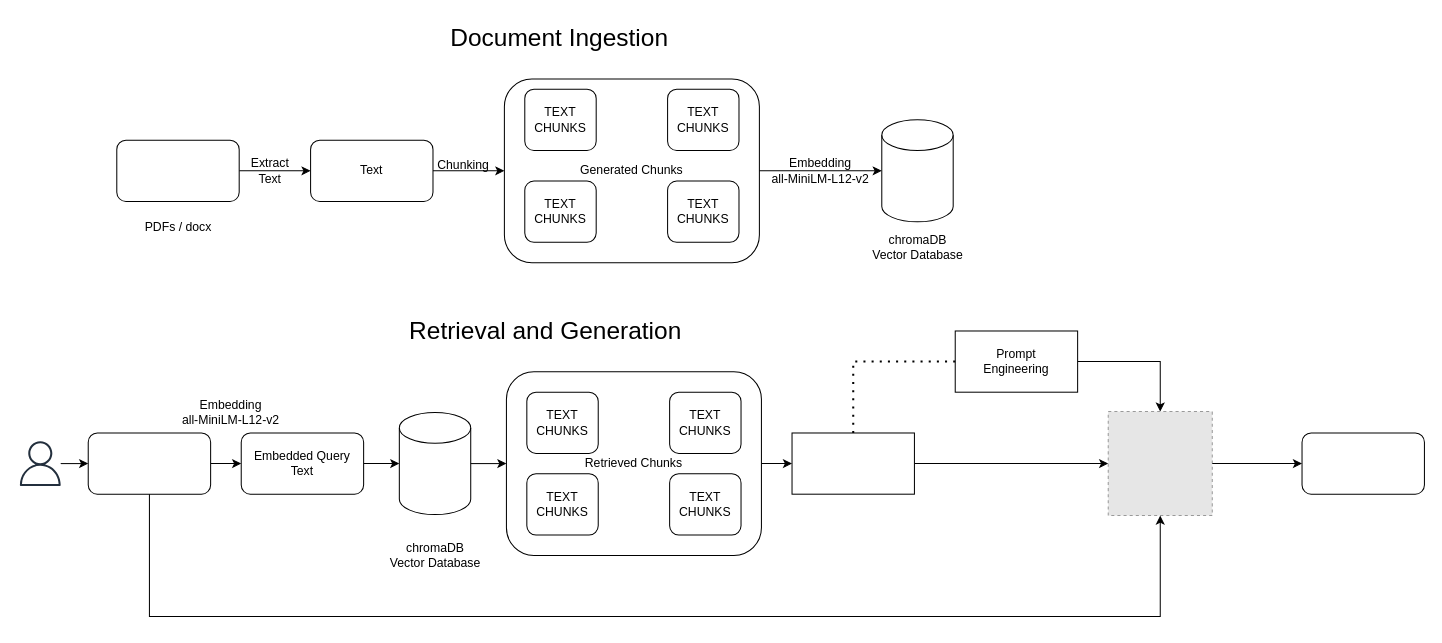
This 1442x643 diagram has some shape labels left out. Grey dashed boxes stand in for pictures. Here are the shapes that lost their labels. From the top down, the centre of each, then its label:
[177,170]: Documents
[149,463]: Query
[852,463]: Ranking
[1362,463]: LLM Answer
